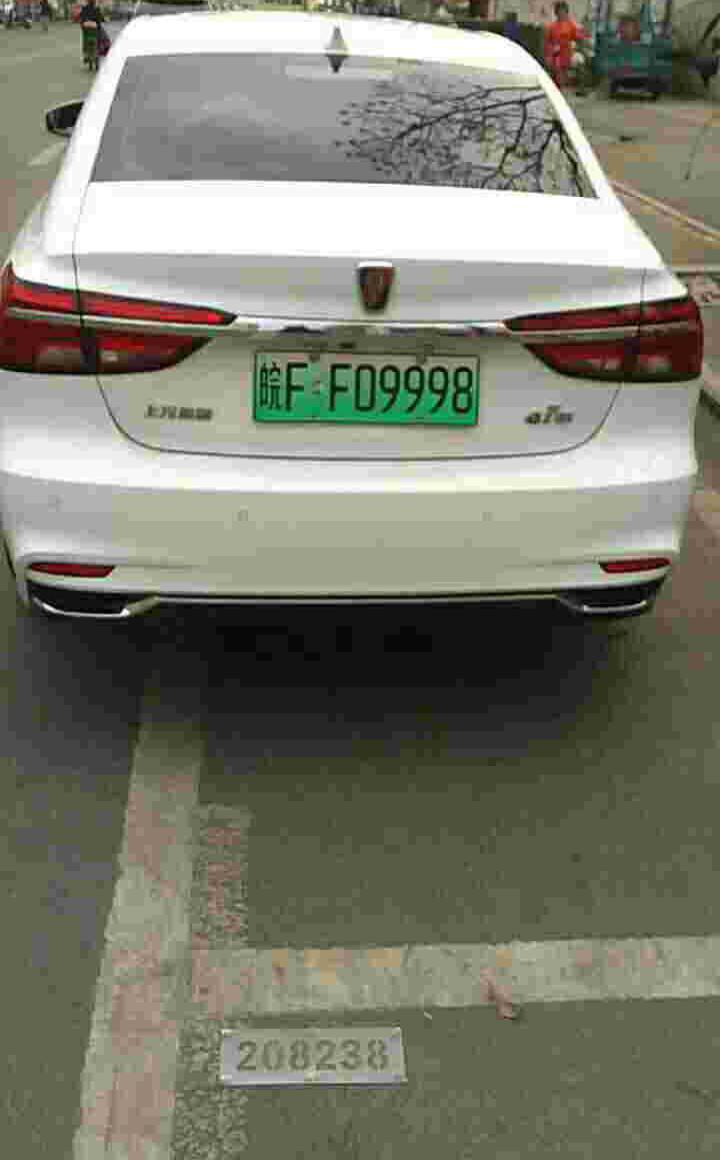car_id: (253, 349, 478, 425)
